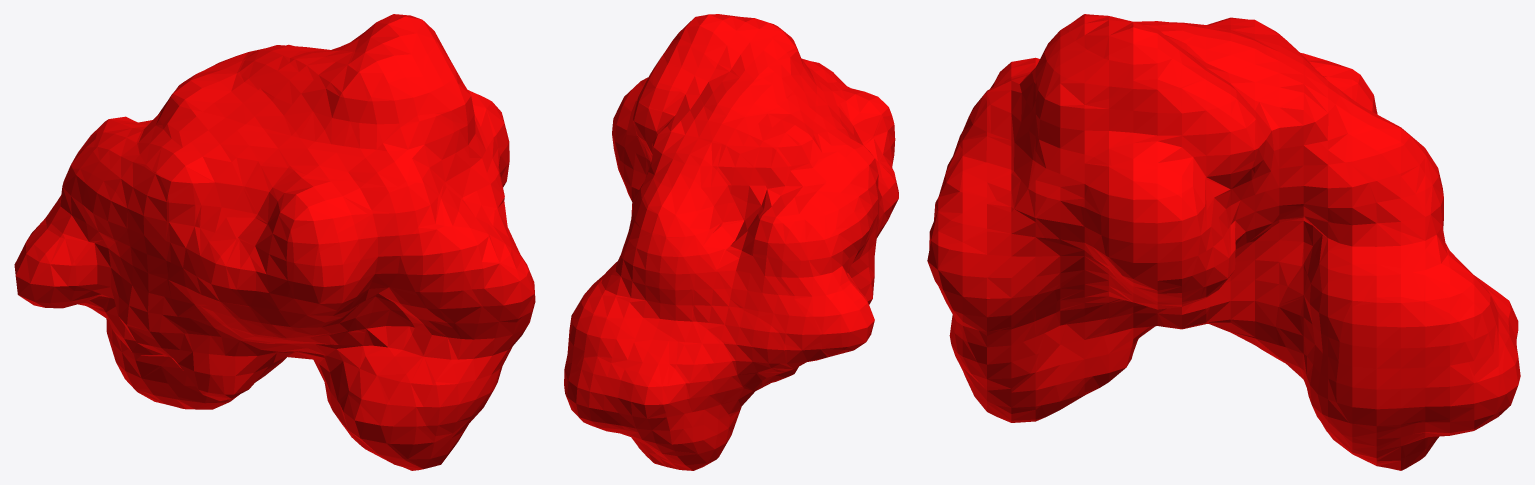
Rendered from yciT_coarse.dae.
3 views of the same model, side by side, from view 1: azimuth 30°, elevation 25°; view 2: azimuth 150°, elevation 25°; view 3: azimuth 270°, elevation 25° (orthographic). The views are drawn at different scales.
Visible parts, largest first — view 1: yciT; view 2: yciT; view 3: yciT.
Part boxes in pixels (x1,y1,x2,y2): yciT: (14,14,535,470); yciT: (564,14,898,470); yciT: (927,14,1520,470).
Size of the model in its own units: 50.87 by 56.1 by 63.2.
